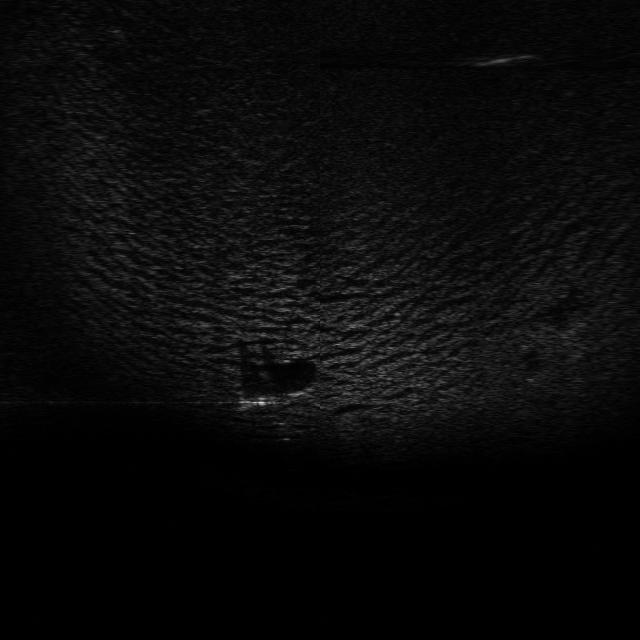plane: (227, 386, 316, 414)
